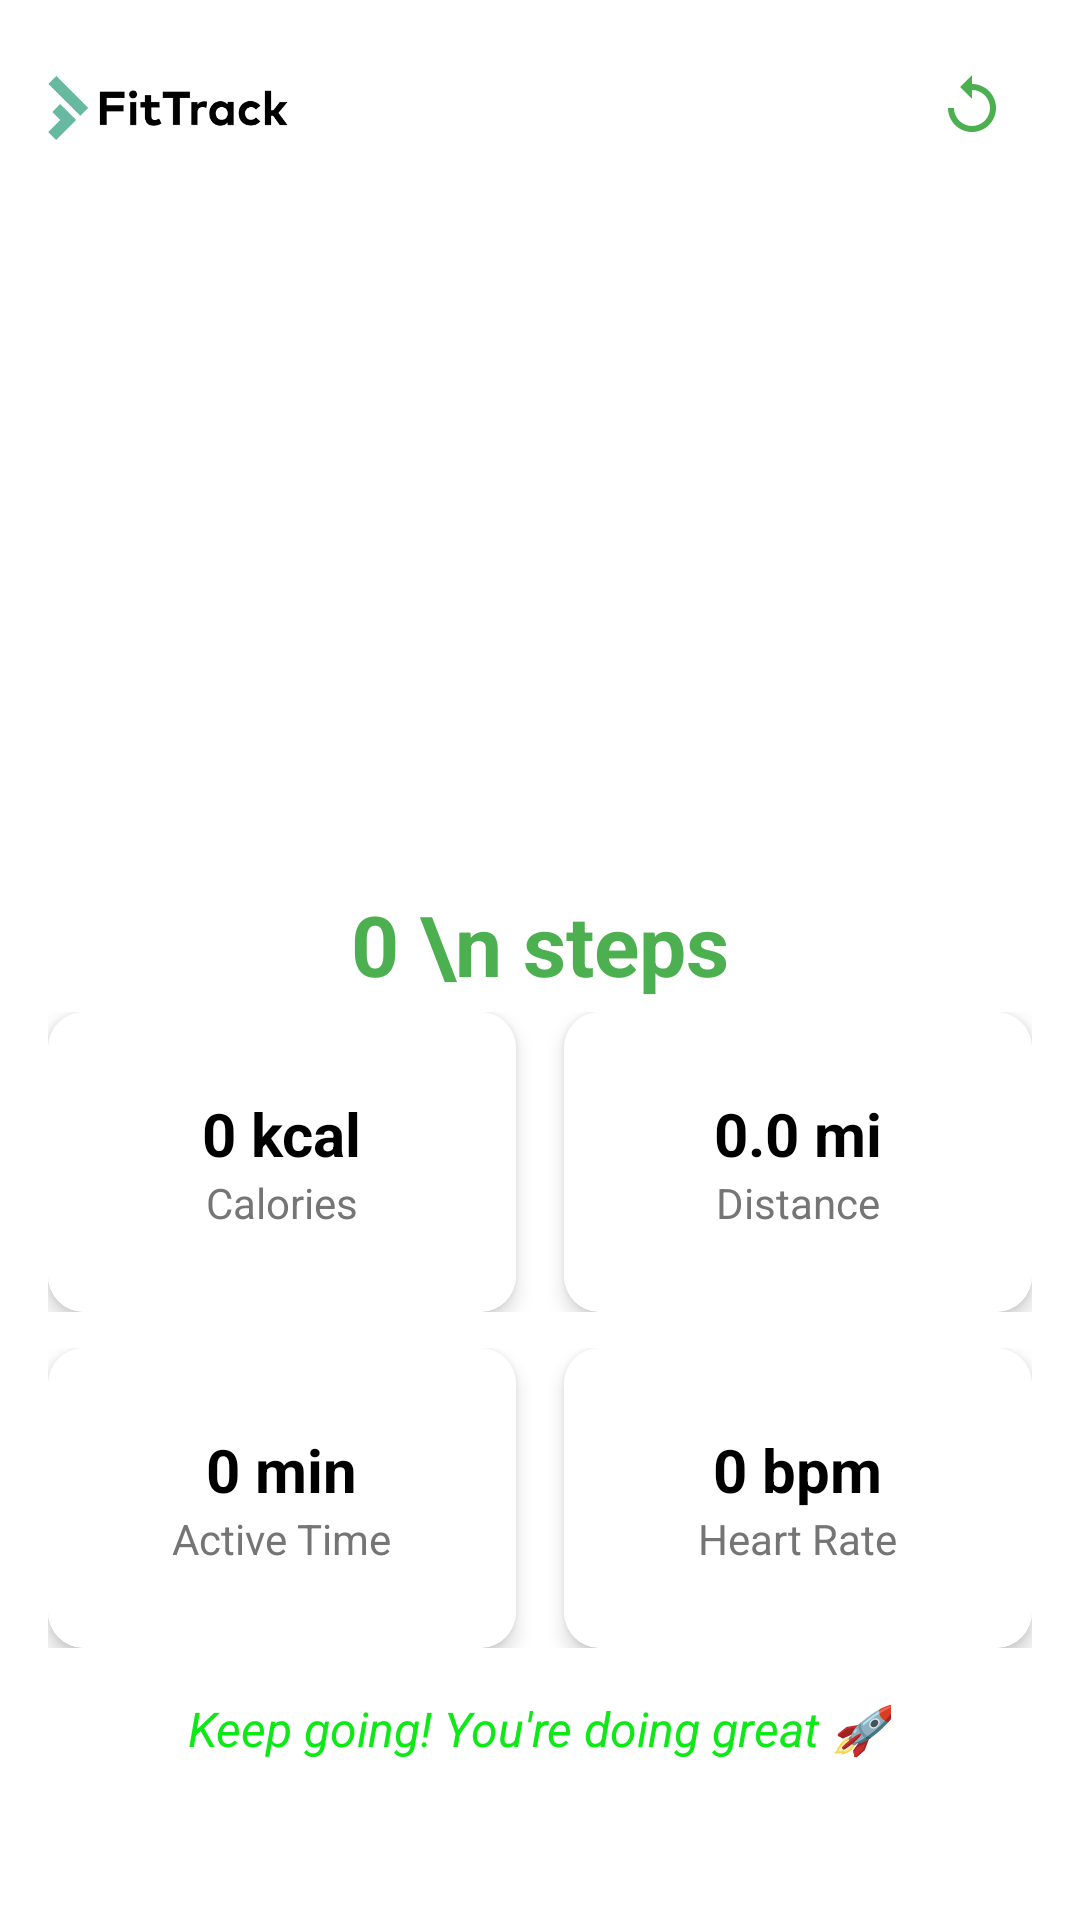

Locate icon controls on the screen. Image size 1080px×1920px, boxes as Rect(x1, y1, x2, y2).
Refresh: Rect(948, 75, 996, 132)
